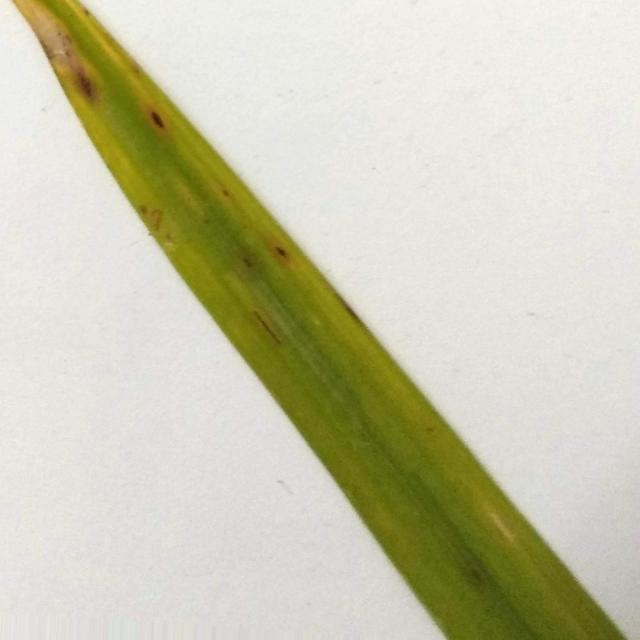Brown_Spot: (251, 310, 284, 345), (70, 60, 96, 100), (465, 565, 495, 588), (269, 240, 292, 268), (149, 110, 165, 129), (241, 256, 256, 269)
